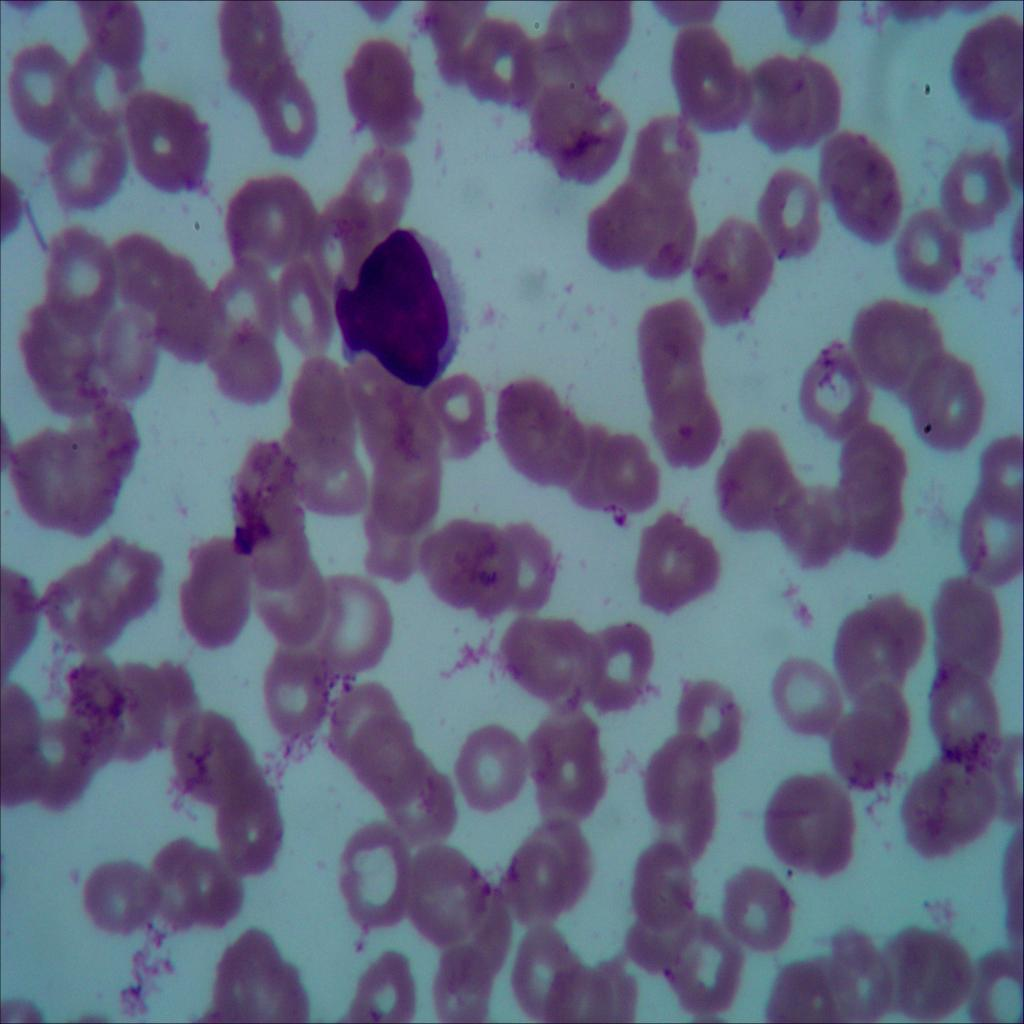Limfoblast: (334, 224, 468, 400)
